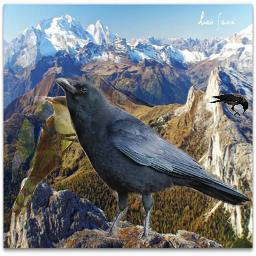Crow: (52, 77, 251, 245), (208, 93, 248, 116)
Cuckoo: (12, 96, 79, 218)
